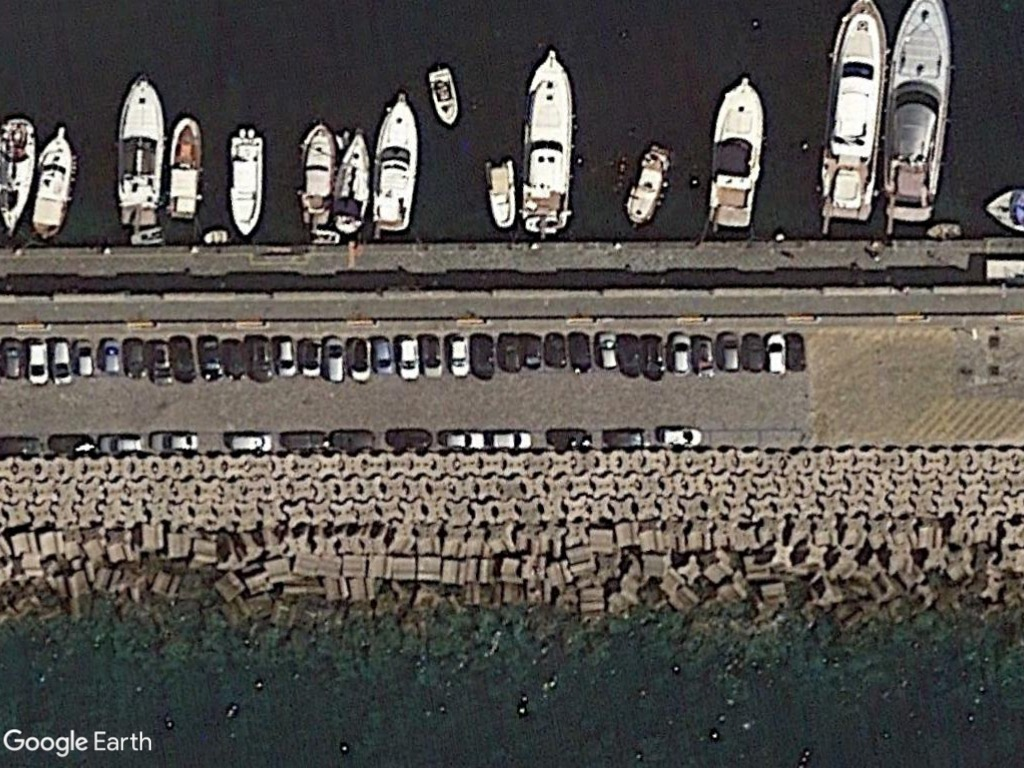boat: (875, 0, 954, 224), (814, 0, 890, 227), (515, 47, 577, 236), (703, 72, 771, 230), (112, 71, 167, 229), (369, 87, 425, 233), (27, 121, 82, 245), (224, 120, 268, 241), (332, 124, 377, 235), (617, 143, 675, 228), (166, 113, 210, 224), (293, 118, 336, 230), (0, 113, 37, 239), (483, 158, 519, 231), (426, 64, 463, 127)
car: (392, 332, 426, 385), (319, 333, 348, 387), (666, 328, 696, 380), (344, 333, 374, 385), (420, 331, 449, 384), (48, 335, 77, 388), (593, 323, 623, 374), (600, 427, 656, 454), (295, 335, 327, 382), (145, 430, 205, 455), (713, 326, 743, 376), (443, 331, 472, 382), (0, 334, 29, 384), (26, 336, 53, 389), (435, 427, 490, 453), (655, 424, 706, 452), (98, 432, 150, 458), (225, 430, 279, 455), (271, 333, 299, 380), (763, 328, 789, 378), (486, 428, 537, 453), (370, 333, 398, 378), (99, 334, 127, 379), (72, 336, 99, 382)
other: (638, 327, 670, 384), (467, 330, 499, 384), (249, 333, 279, 385), (382, 426, 437, 453), (564, 331, 597, 376), (739, 327, 769, 376), (614, 330, 643, 380), (277, 429, 332, 455), (496, 328, 525, 376), (692, 332, 719, 383), (542, 327, 570, 374), (784, 326, 810, 376), (327, 427, 378, 451), (519, 329, 545, 370)
